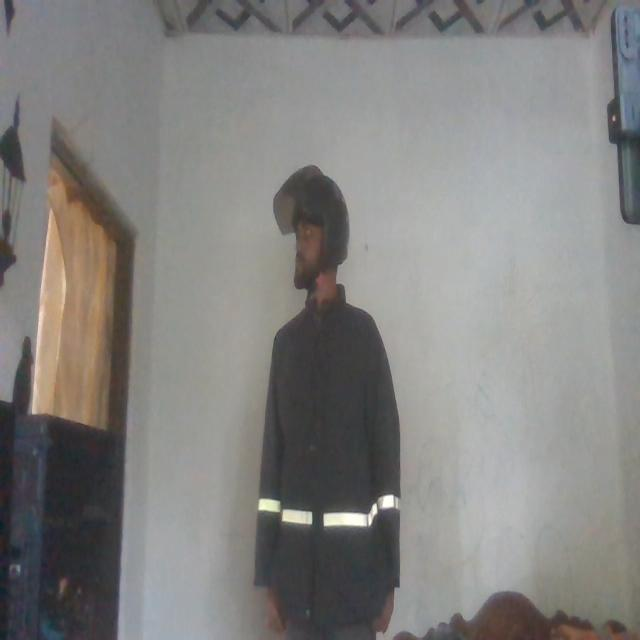Helmet_Wearer: (268, 162, 362, 308)
Jacket_Wearer: (258, 294, 402, 620)
Person: (242, 158, 404, 640)
